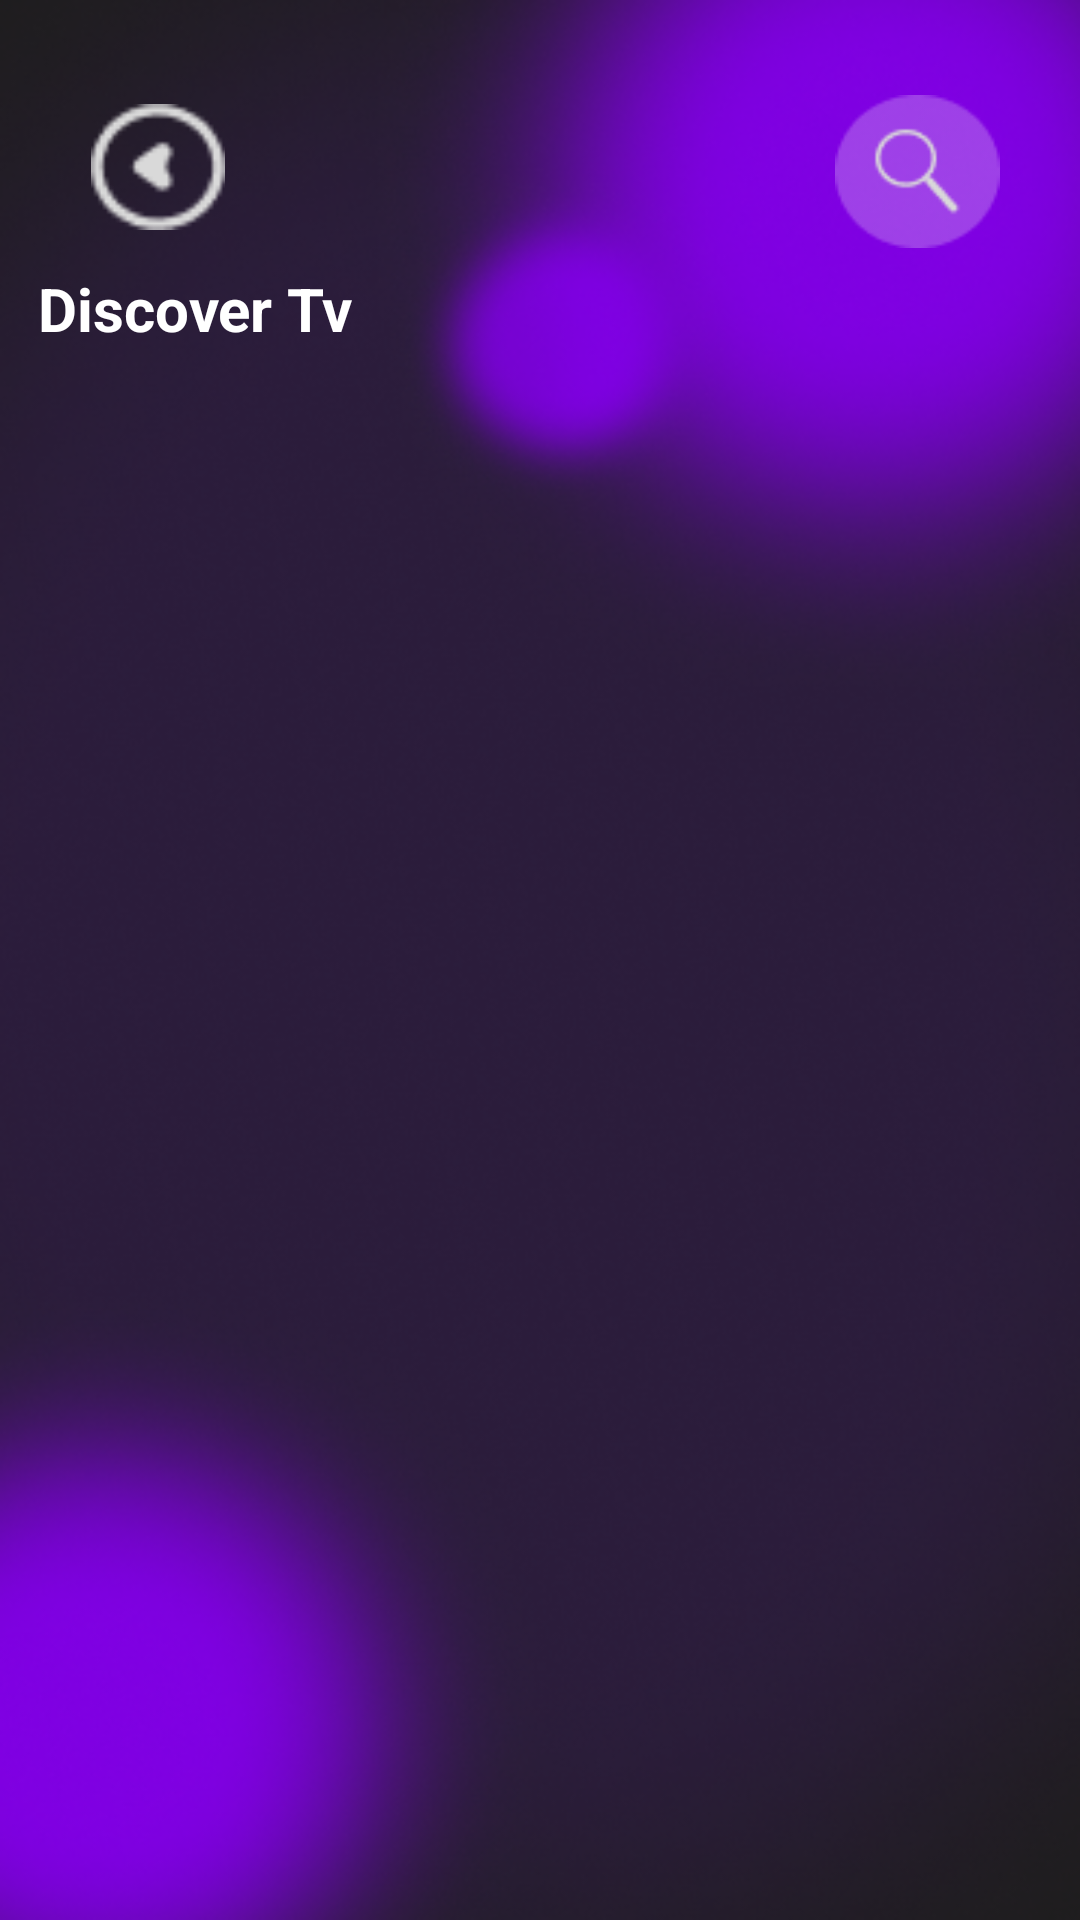

Icons on this 1080*1920 Android screen, each with its box as (x1, y1, x2, y2):
backimg: (91, 104, 225, 230)
searchicon: (835, 95, 1000, 248)
